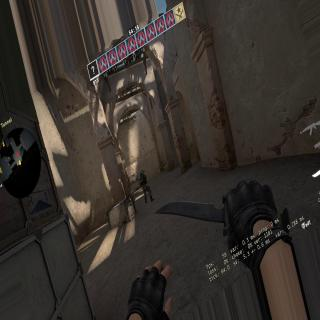CT-Body: (139, 167, 152, 200)
CT-Head: (140, 167, 144, 174)
